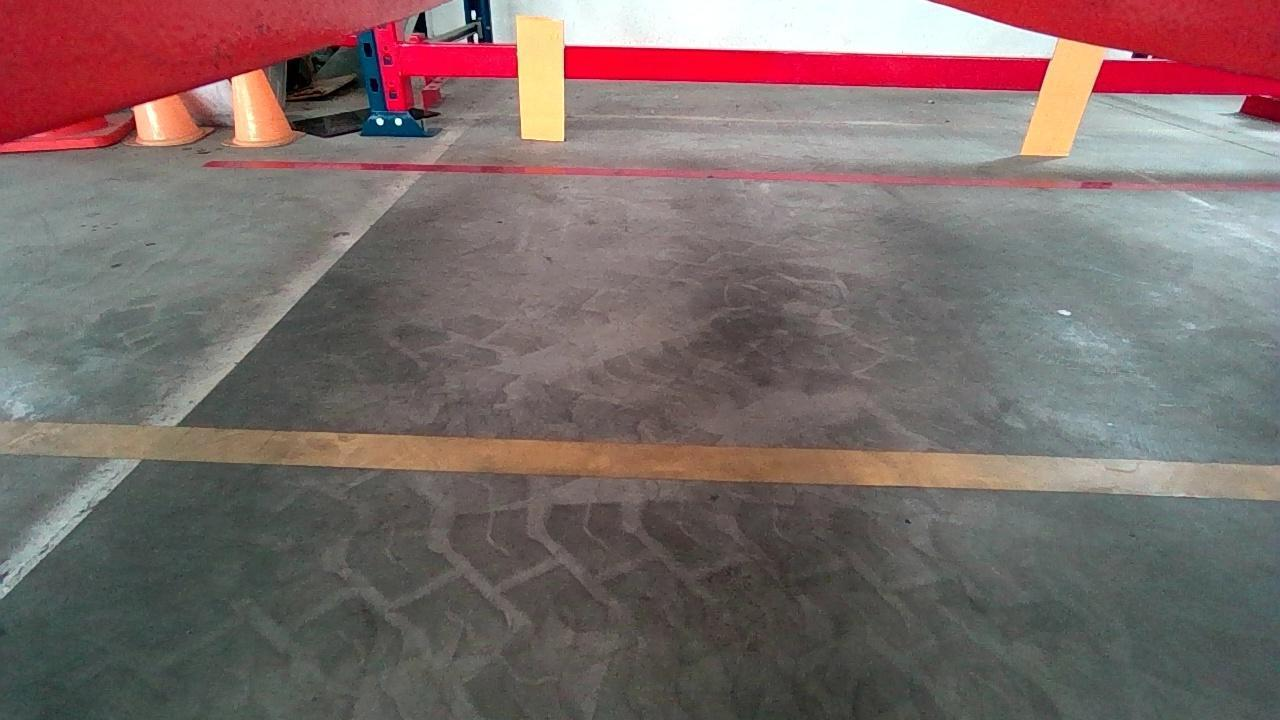h_rack: (399, 46, 1279, 88)
orange_strip: (1020, 41, 1109, 156), (513, 15, 564, 140)
red_line: (200, 156, 1280, 190)
yellow_line: (3, 421, 1279, 498)
